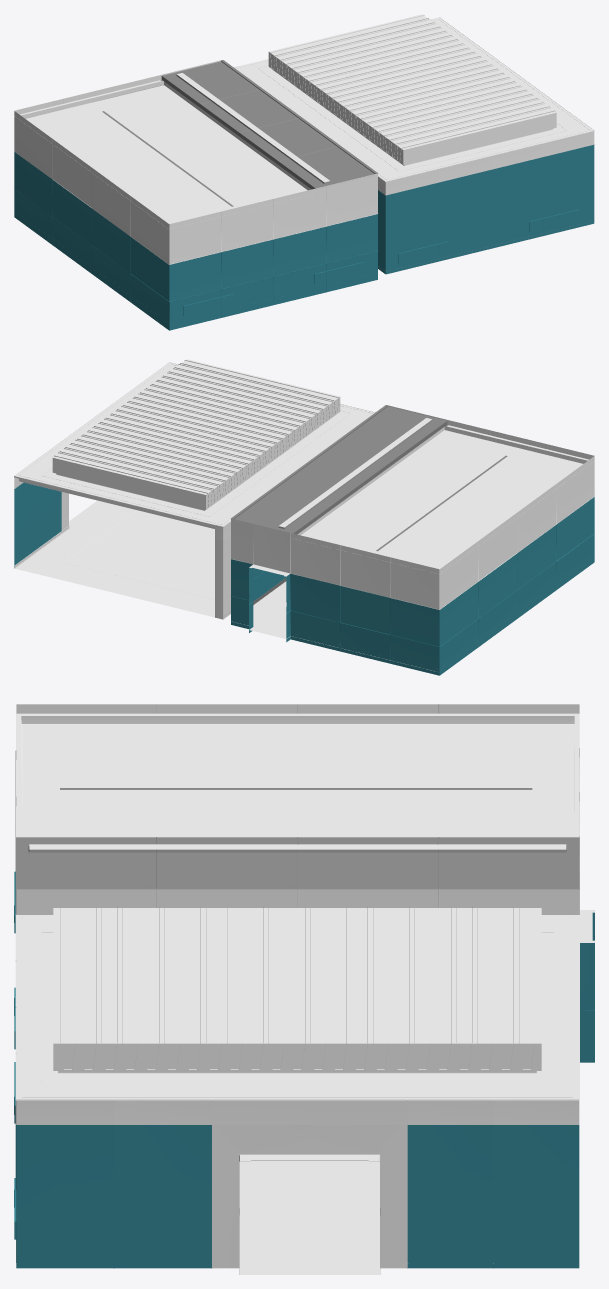
3 renders of one model, top to bottom at view 1: azimuth 30°, elevation 25°; view 2: azimuth 150°, elevation 25°; view 3: azimuth 270°, elevation 25°, orthographic. The views are drawn at different scales.
Visible parts, largest first — view 1: SM_H_Building_FutureTech_HOrange_01_InterWall_11; view 2: SM_H_Building_FutureTech_HOrange_01_InterWall_11; view 3: SM_H_Building_FutureTech_HOrange_01_InterWall_11.
Boxes of the visible parts, box(x1,y1,x2,y2) form: SM_H_Building_FutureTech_HOrange_01_InterWall_11: box(14, 14, 594, 330); SM_H_Building_FutureTech_HOrange_01_InterWall_11: box(14, 359, 594, 675); SM_H_Building_FutureTech_HOrange_01_InterWall_11: box(14, 704, 594, 1274).
Size of the model in its own units: 428 by 669 by 168.
